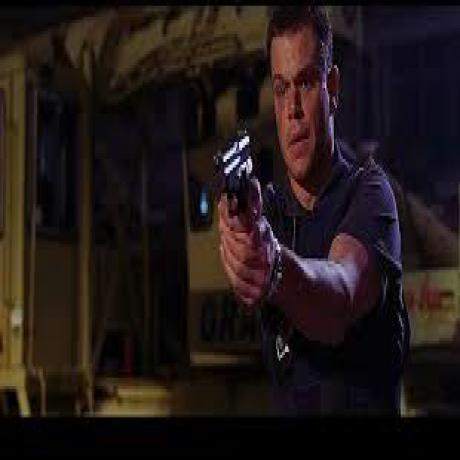Guns: (215, 120, 254, 224)
